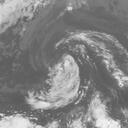cyclone: (25, 53, 83, 108)
